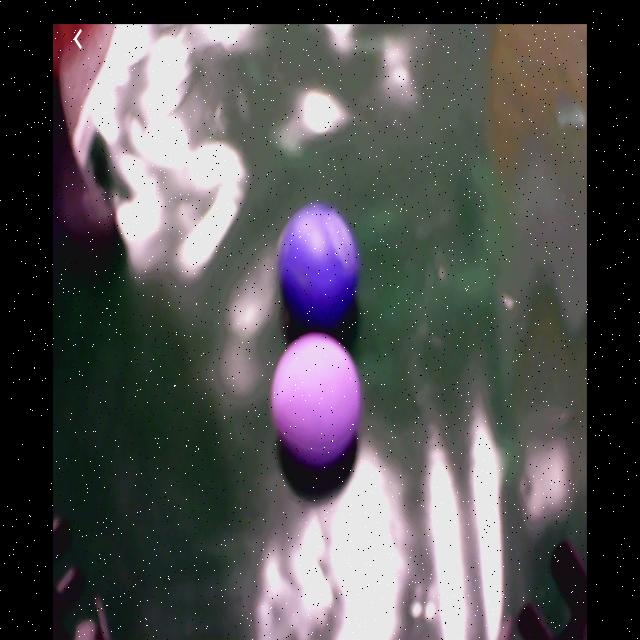ball: (272, 331, 362, 476), (278, 203, 359, 325)
